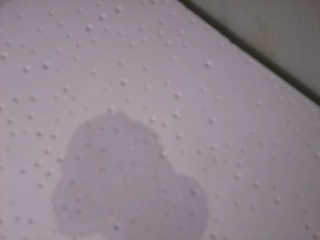Water_detected: (81, 133, 182, 234)
